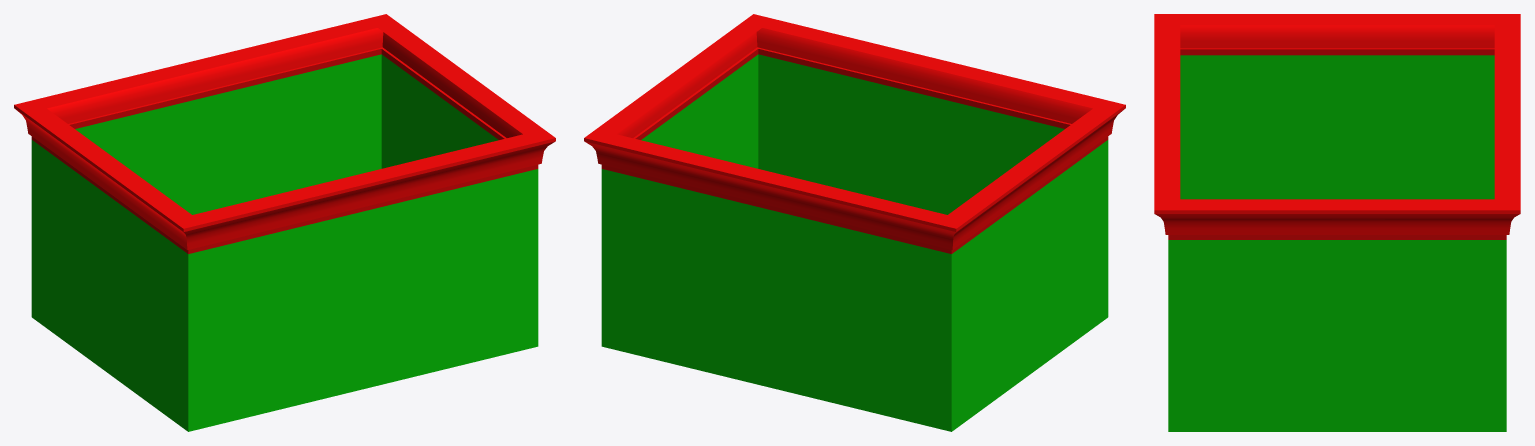
File: Building03_Top_Nice.fbx
The picture shows the model from 3 angles, left to right: view 1: azimuth 30°, elevation 25°; view 2: azimuth 150°, elevation 25°; view 3: azimuth 270°, elevation 25°; orthographic projection. The views are drawn at different scales.
Visible parts, largest first — view 1: Building3_Top; view 2: Building3_Top; view 3: Building3_Top.
Boxes of the visible parts, left/top/right/bottom form: Building3_Top: left=14, top=14, right=555, bottom=431; Building3_Top: left=584, top=14, right=1125, bottom=431; Building3_Top: left=1154, top=14, right=1520, bottom=431.
Size of the model in its own units: 555 by 300 by 437.
